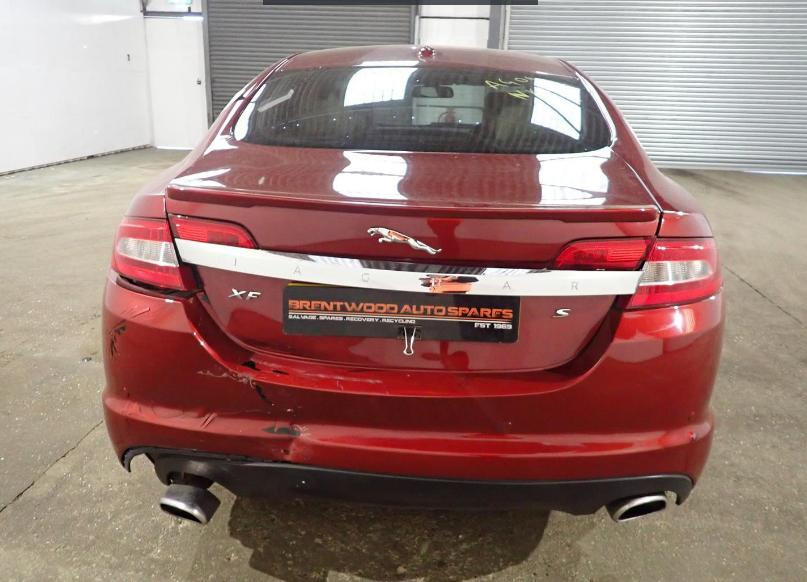Back-bumper: (100, 275, 725, 515)
Back-windshield: (233, 67, 609, 153)
Quarter-panel: (612, 138, 715, 237), (128, 130, 215, 216)
Roof: (277, 46, 582, 78)
Tail-light: (619, 235, 721, 303), (116, 214, 190, 292), (552, 240, 652, 270), (170, 215, 253, 247)
Trunk: (169, 136, 652, 370)
